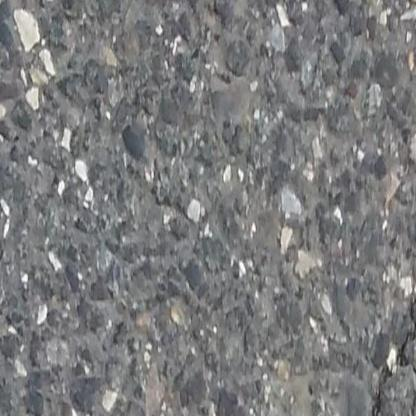Cracks: (367, 277, 416, 416)
